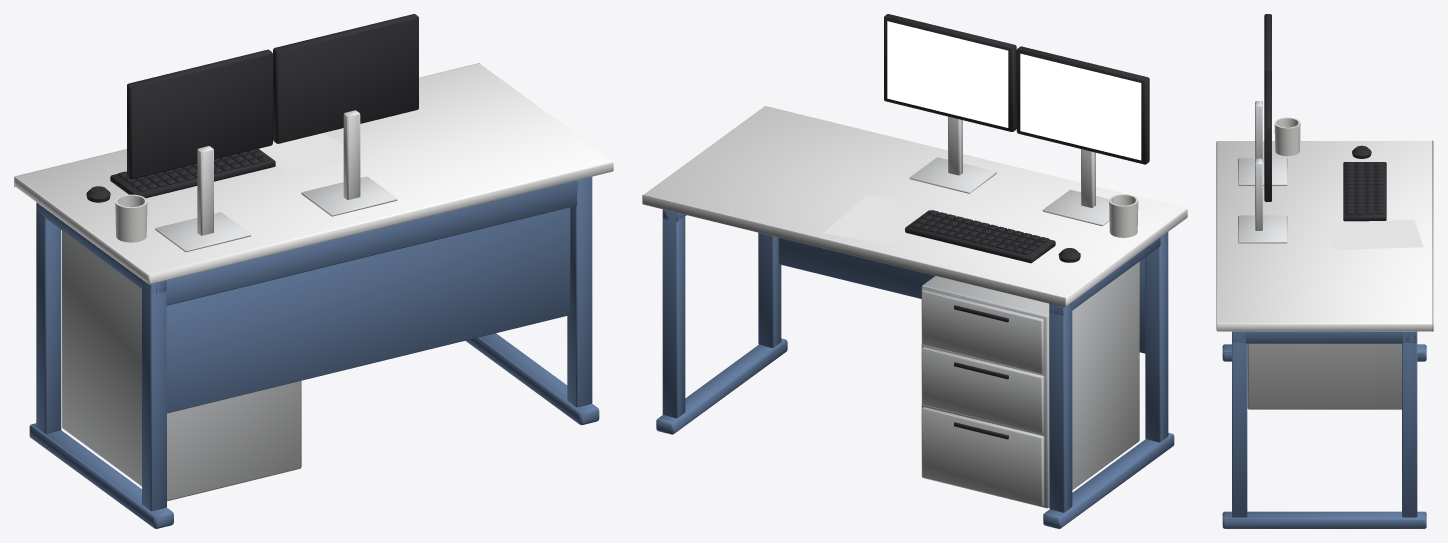
The model's file is Lab_Desk.fbx.
The picture shows the model from 3 angles, left to right: view 1: azimuth 30°, elevation 25°; view 2: azimuth 150°, elevation 25°; view 3: azimuth 270°, elevation 25°; orthographic projection. The views are drawn at different scales.
Parts seen in each view (by area): view 1: Lab_Desk; view 2: Lab_Desk; view 3: Lab_Desk.
Part boxes in pixels (x1,y1,x2,y2): Lab_Desk: [14, 14, 613, 528]; Lab_Desk: [642, 14, 1187, 528]; Lab_Desk: [1216, 14, 1433, 528].
Size of the model in its own units: 1.4 by 1.22 by 0.702.
